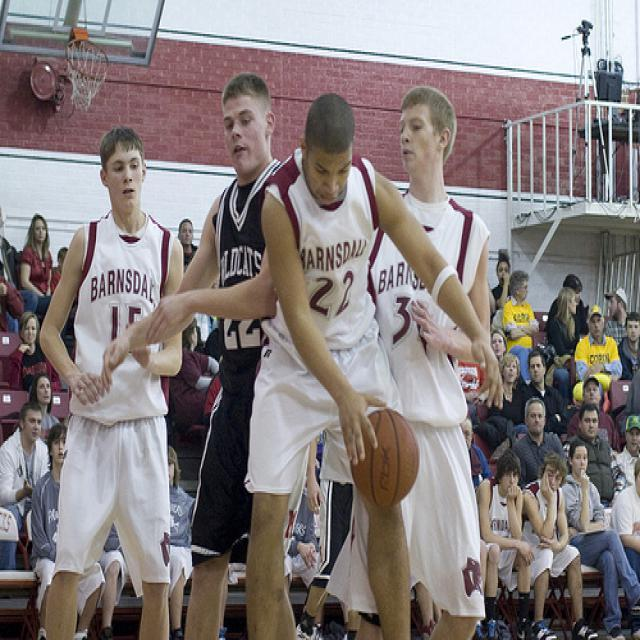basketball: (349, 407, 422, 511)
